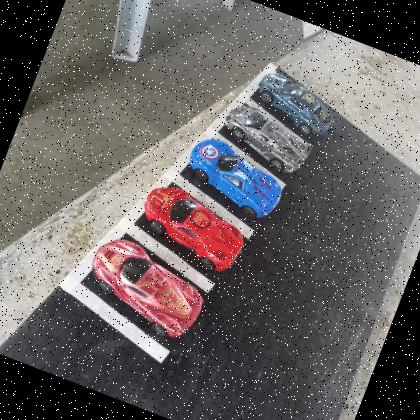Car: (78, 232, 215, 344), (130, 179, 253, 278), (178, 131, 292, 223), (214, 100, 318, 178), (248, 68, 341, 142)
